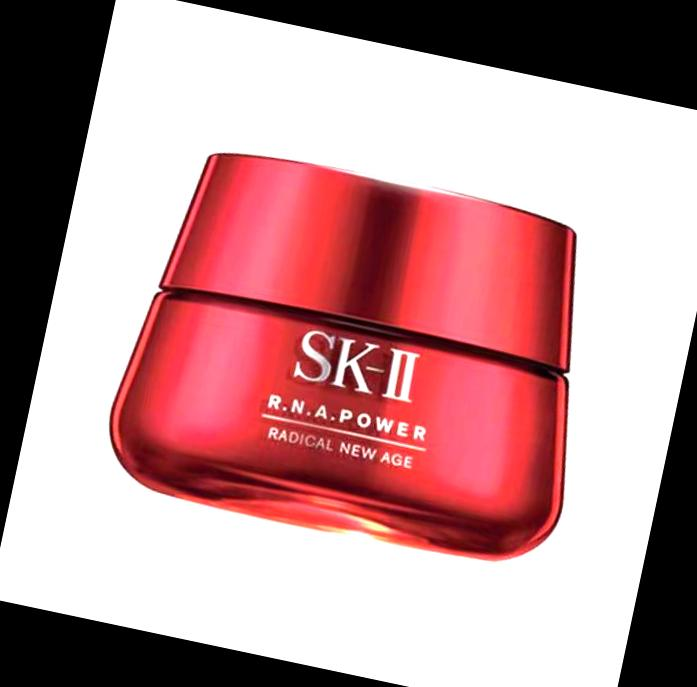cosmetic: (111, 137, 608, 564)
